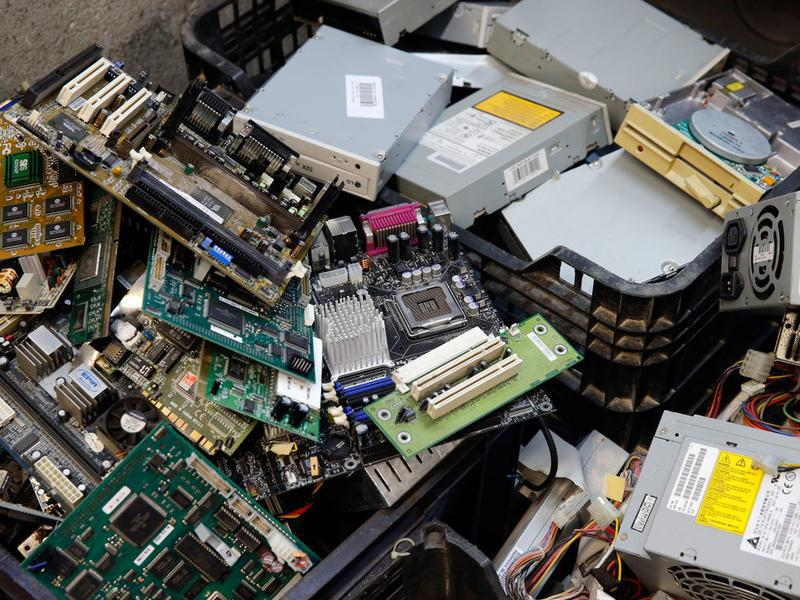circuit_board: (1, 46, 344, 306), (303, 198, 563, 464), (18, 419, 324, 600), (139, 227, 323, 387), (1, 319, 174, 474), (2, 106, 87, 258)
